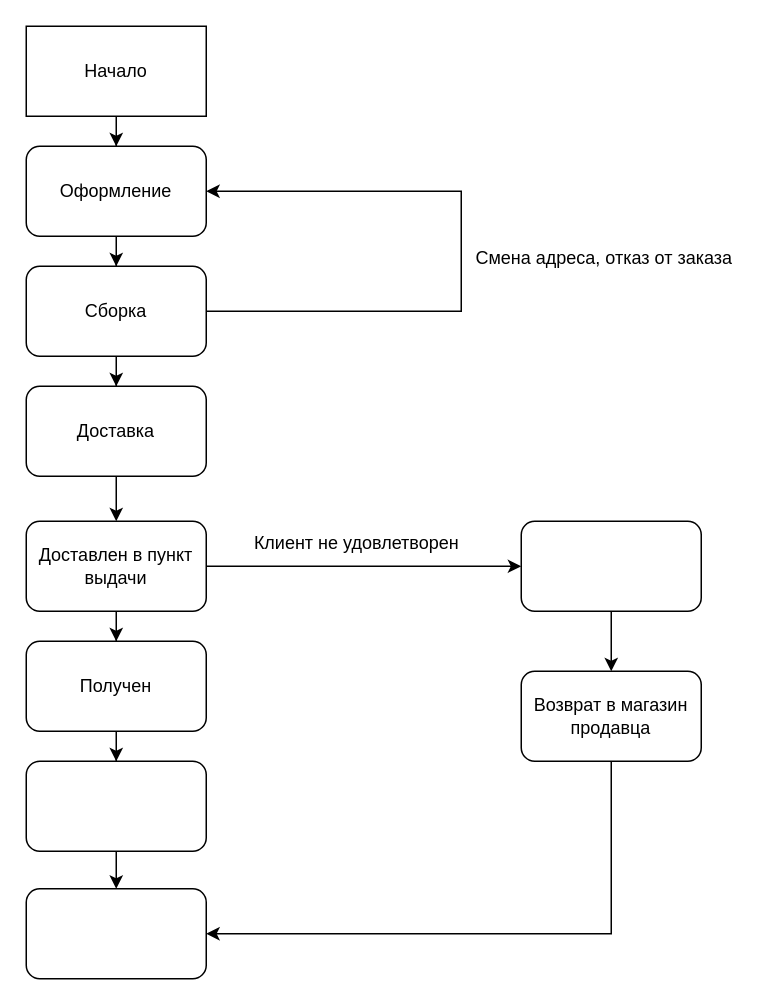
The diagram is 773 pixels wide and 1005 high, and some of its shapes have lost their labels. Each missing label, with the centre of its shape:
Конец: point 115,933
Отзыв: point 115,805
Отказ: point 610,565
